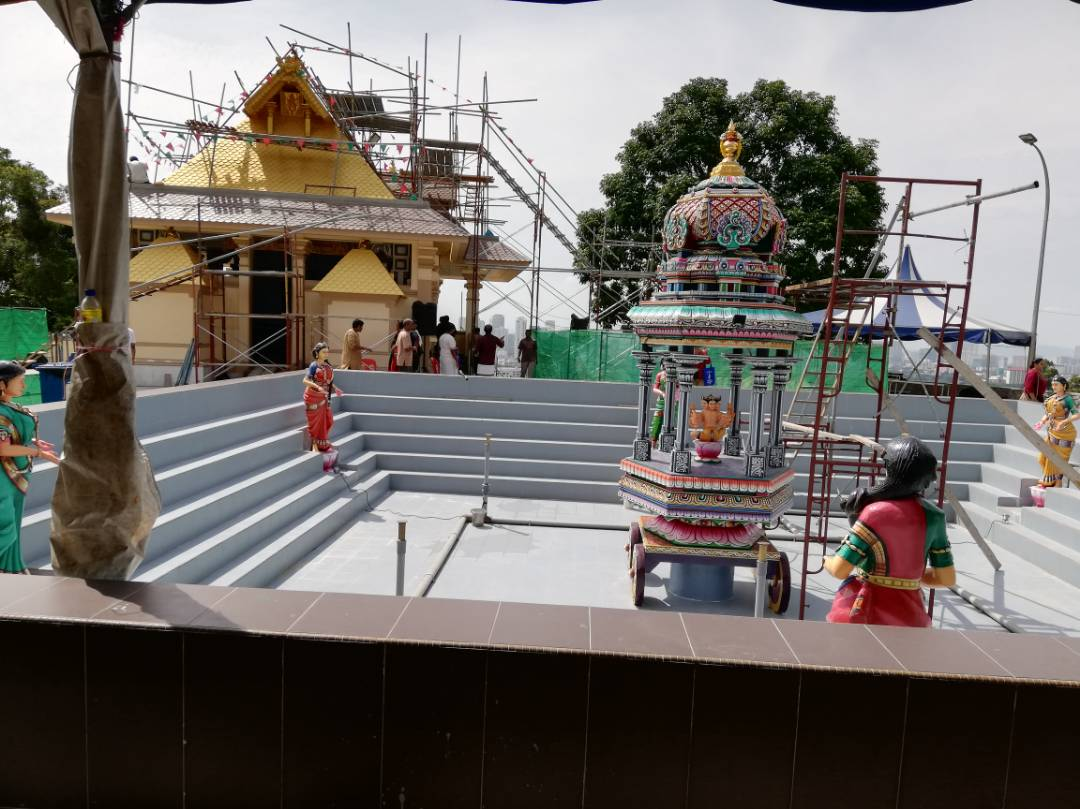Hindu Temple: (628, 129, 802, 530)
